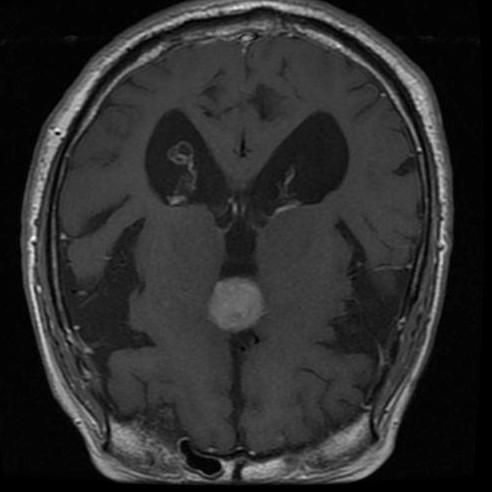Tumour-Pituitary: (201, 276, 274, 334)
